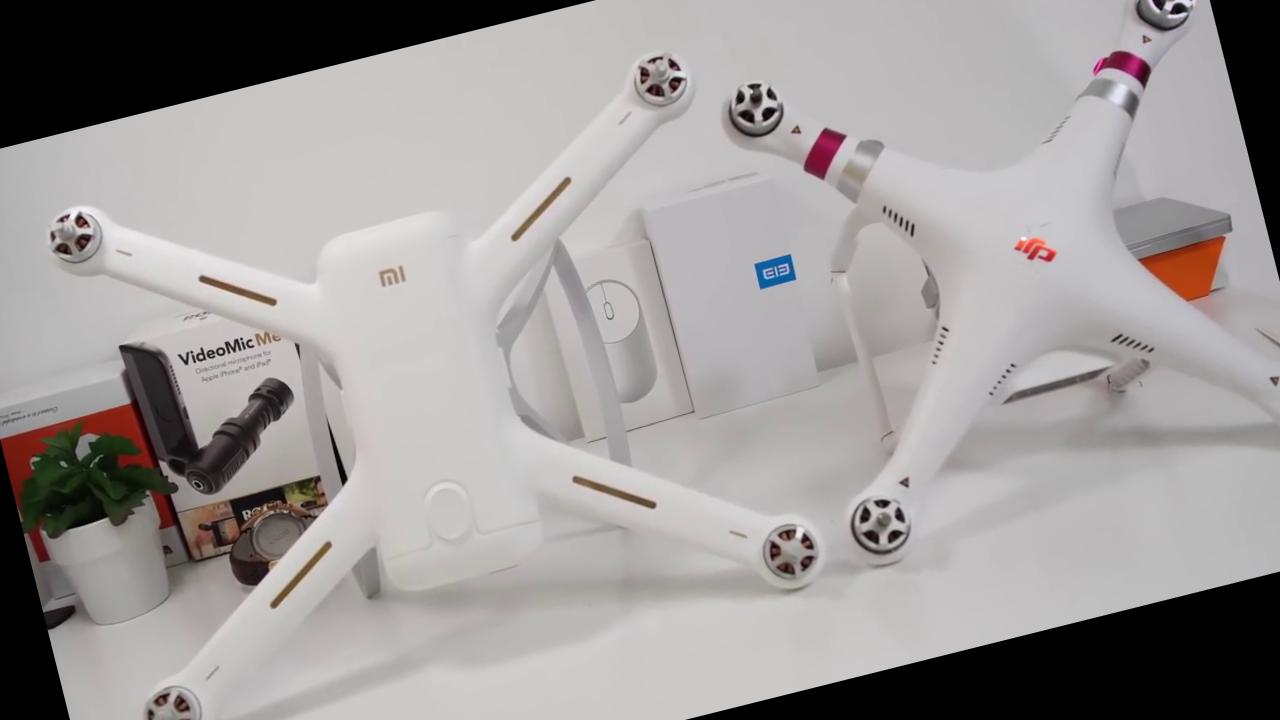drone: (18, 30, 842, 720), (705, 0, 1280, 582)
